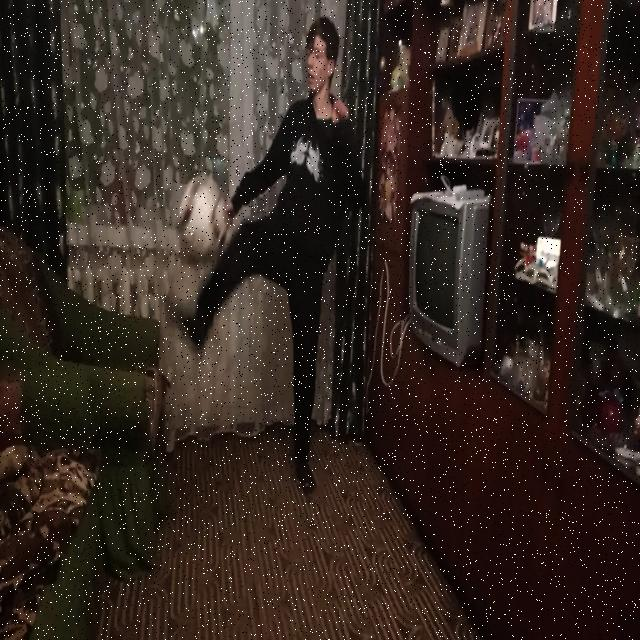ball: (178, 178, 230, 266)
